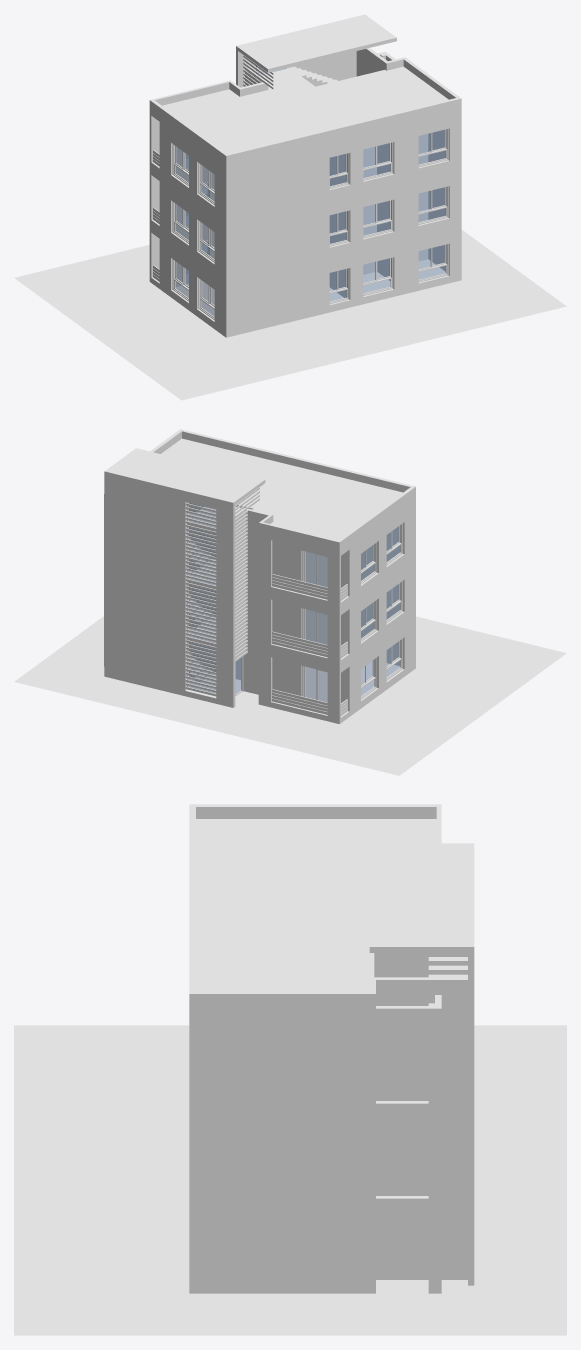
The picture shows the model from 3 angles, top to bottom: view 1: azimuth 30°, elevation 25°; view 2: azimuth 150°, elevation 25°; view 3: azimuth 270°, elevation 25°; orthographic projection. The views are drawn at different scales.
Visible parts, largest first — view 1: Root Node, 17946, 17451, 16533, 18574, Component#3 (×12), Component#5 (×3), 17947, 18555, 16878, Component#9, 18556 (+3 smaller); view 2: Root Node, 17946, 16533, 17451, 18574, 17947, Component#3 (×6), 19450, 17452, 17128, 16878, 18555 (+3 smaller); view 3: Root Node, 17946, 18574, 17451, 16533, 19342, 19437, 19439, 18556, 19089.
Part boxes in pixels (<box>): Root Node: <box>14,230,566,400</box>; 17946: <box>159,14,461,222</box>; 17451: <box>159,144,461,279</box>; 16533: <box>159,202,461,337</box>; 18574: <box>173,66,448,153</box>; Component#3 (×12): <box>172,129,448,319</box>; Component#5 (×3): <box>329,153,349,304</box>; 17947: <box>149,80,239,180</box>; 18555: <box>329,144,428,240</box>; 16878: <box>329,202,428,297</box>; Component#9: <box>258,67,314,95</box>; 18556: <box>329,134,428,182</box>; Root Node: <box>14,616,566,775</box>; 17946: <box>104,429,415,601</box>; 16533: <box>104,603,415,716</box>; 17451: <box>104,545,415,658</box>; 18574: <box>161,438,402,538</box>; 17947: <box>258,515,349,614</box>; Component#3 (×6): <box>361,523,402,699</box>; 19450: <box>187,502,216,696</box>; 17452: <box>258,589,349,672</box>; 17128: <box>258,647,349,723</box>; 16878: <box>188,609,327,679</box>; 18555: <box>188,551,327,614</box>; Root Node: <box>14,1025,566,1335</box>; 17946: <box>189,804,474,1103</box>; 18574: <box>196,819,402,991</box>; 17451: <box>189,1090,474,1198</box>; 16533: <box>189,1185,474,1293</box>; 19342: <box>376,1196,428,1216</box>; 19437: <box>376,1101,428,1121</box>; 19439: <box>376,1006,428,1026</box>; 18556: <box>374,953,402,977</box>; 19089: <box>409,819,436,843</box>.
Bounding box in the file's own units: 22.41 × 11.4 × 16.88.
